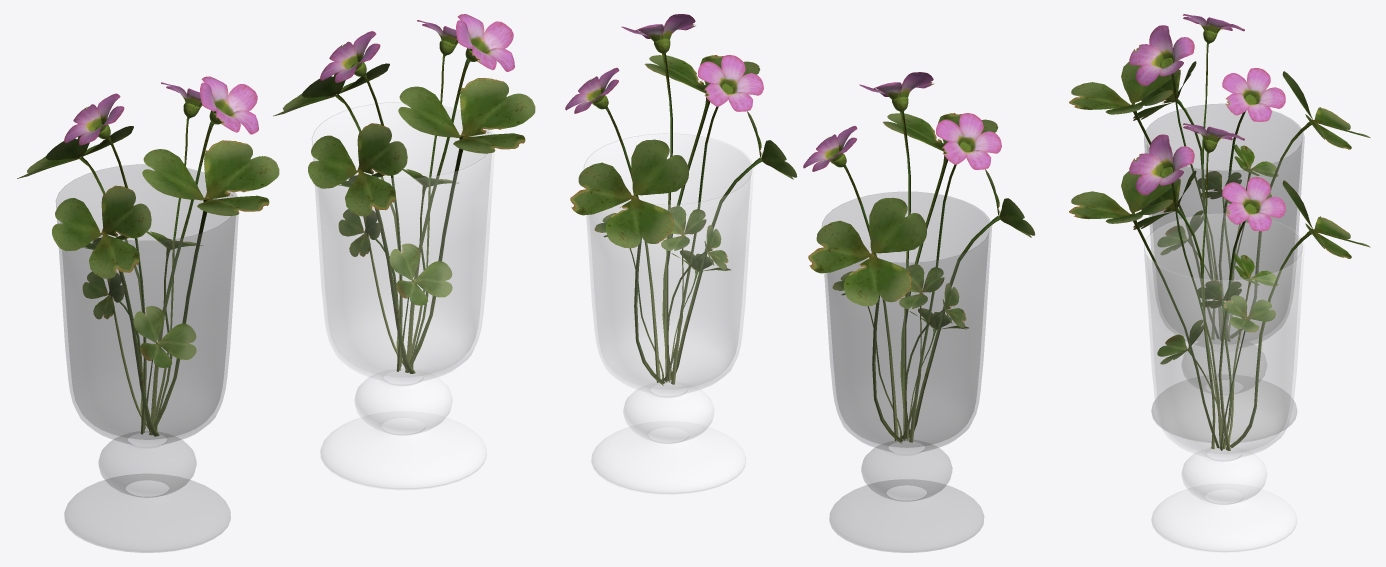
File: GlassVaseFlowers.glb
3 renders of one model, left to right at view 1: azimuth 30°, elevation 25°; view 2: azimuth 150°, elevation 25°; view 3: azimuth 270°, elevation 25°, orthographic. The views are drawn at different scales.
Parts seen in each view (by area): view 1: GlassAlpha, GlassTransmission, Flowers2, Flowers1; view 2: GlassAlpha, GlassTransmission, Flowers2, Flowers1; view 3: GlassTransmission, GlassAlpha, Flowers2, Flowers1.
Part boxes in pixels (x1,y1,x2,y2): GlassAlpha: [56, 164, 238, 552]; GlassTransmission: [312, 102, 494, 490]; Flowers2: [273, 14, 535, 373]; Flowers1: [17, 76, 279, 436]; GlassAlpha: [822, 192, 991, 552]; GlassTransmission: [584, 133, 753, 494]; Flowers2: [565, 14, 797, 385]; Flowers1: [803, 72, 1035, 443]; GlassTransmission: [1144, 213, 1304, 552]; GlassAlpha: [1144, 104, 1304, 442]; Flowers2: [1069, 123, 1370, 450]; Flowers1: [1069, 14, 1370, 341].
Bounding box in the file's own units: 0.2173 × 0.2032 × 0.1425.
3 materials, 1 textured.
